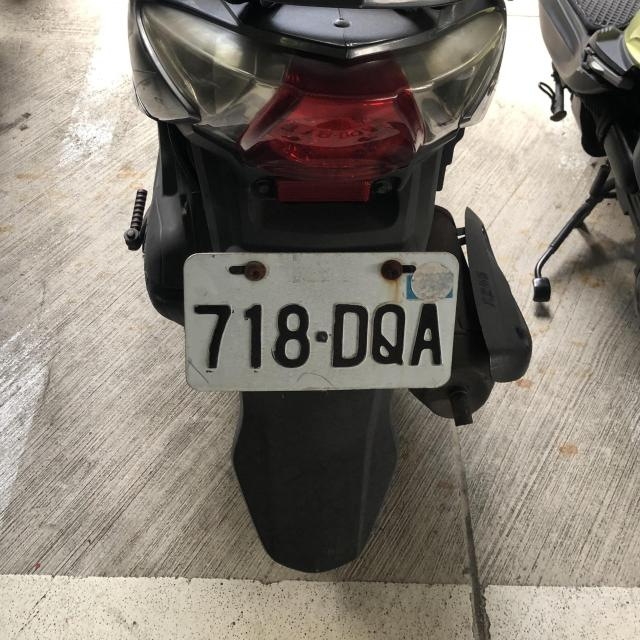W: (180, 242, 460, 392)
